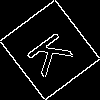K: (25, 24, 82, 79)
